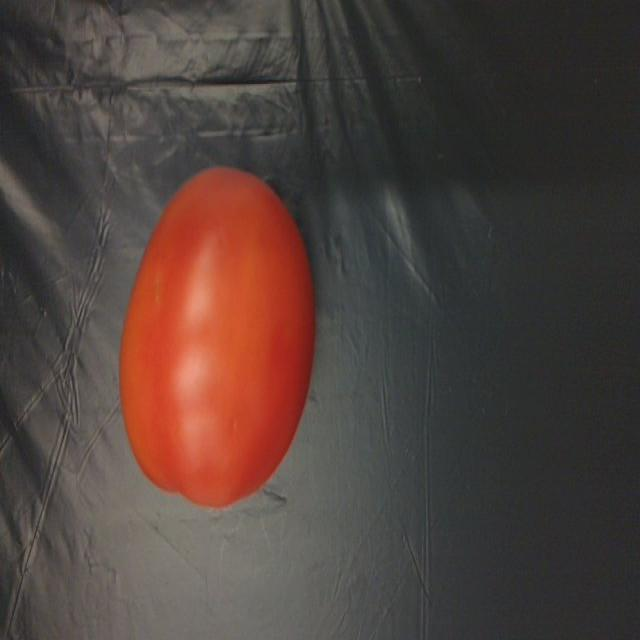sari: (122, 148, 324, 524)
